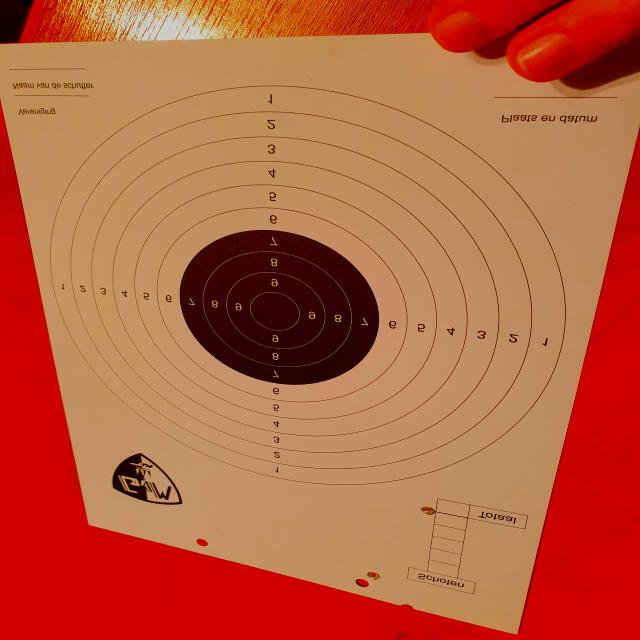0: (420, 506, 435, 518), (366, 572, 382, 580)
Target: (49, 85, 556, 487)
black_contour: (180, 230, 379, 383)
